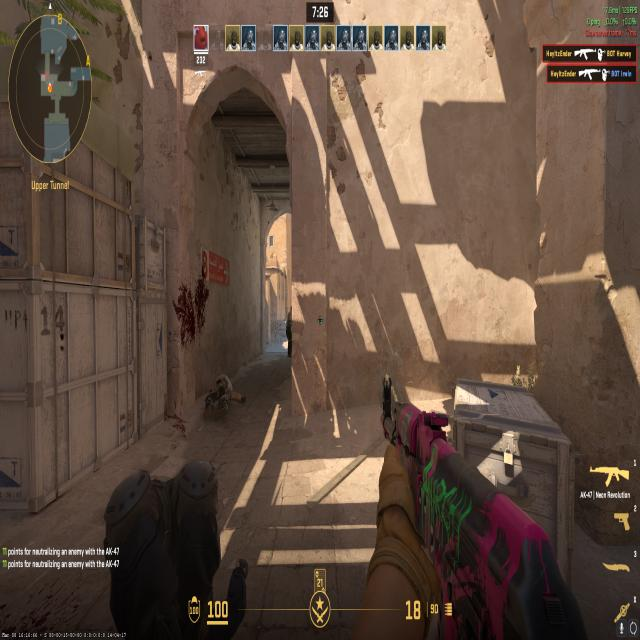t: (284, 304, 293, 358)
